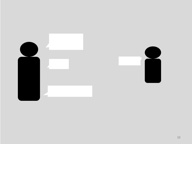left_oneway: (41, 82, 96, 100), (43, 30, 87, 52), (44, 56, 73, 72)
right_oneway: (115, 52, 144, 68)
